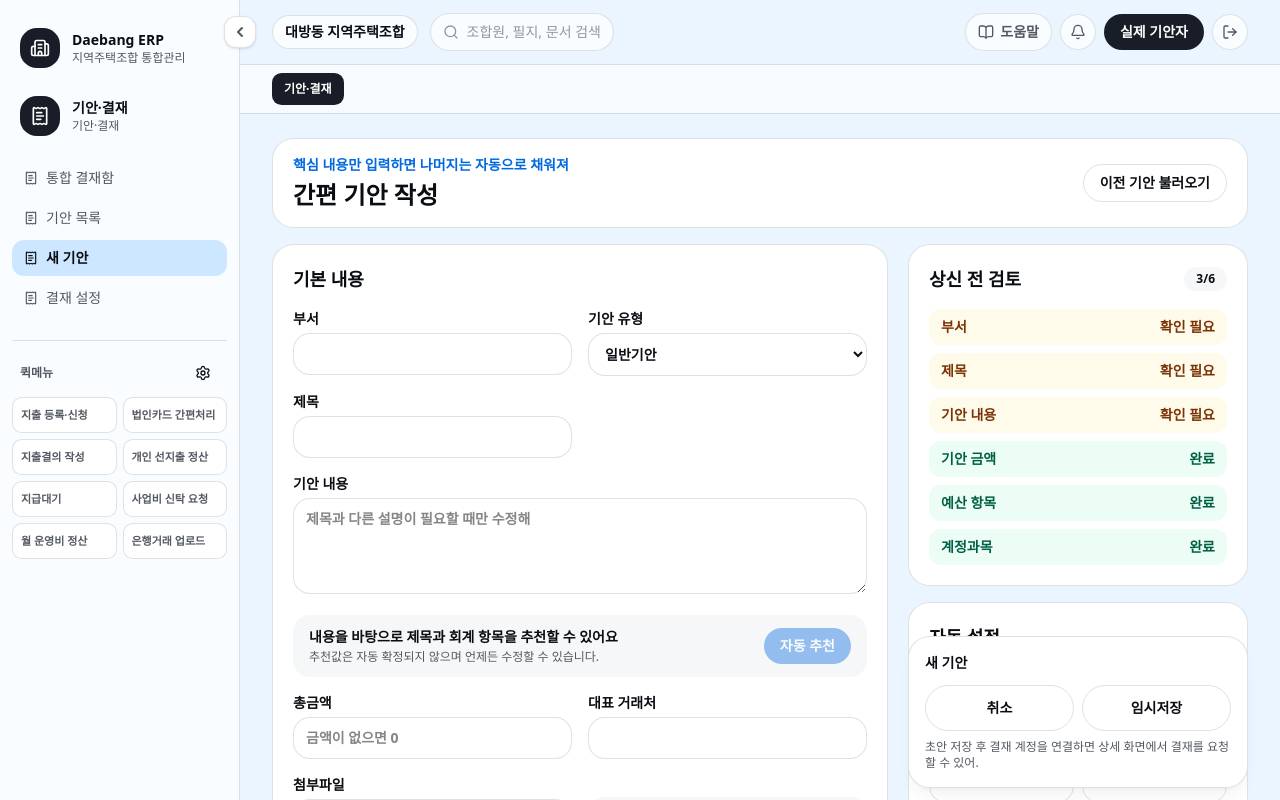
Test: ApprovalNewPage › shows only core inputs first and fills common defaults
Expected: the heading "간편 기안 작성" is shown, x1=293 y1=178 x2=438 y2=211
Expected: the field named "departmentLabel" is empty, x1=293 y1=333 x2=572 y2=375
Step 1. Type "부동산 매입 계약 검토" into the field labelled "제목" → (432, 437), box x1=293 y1=416 x2=572 y2=458
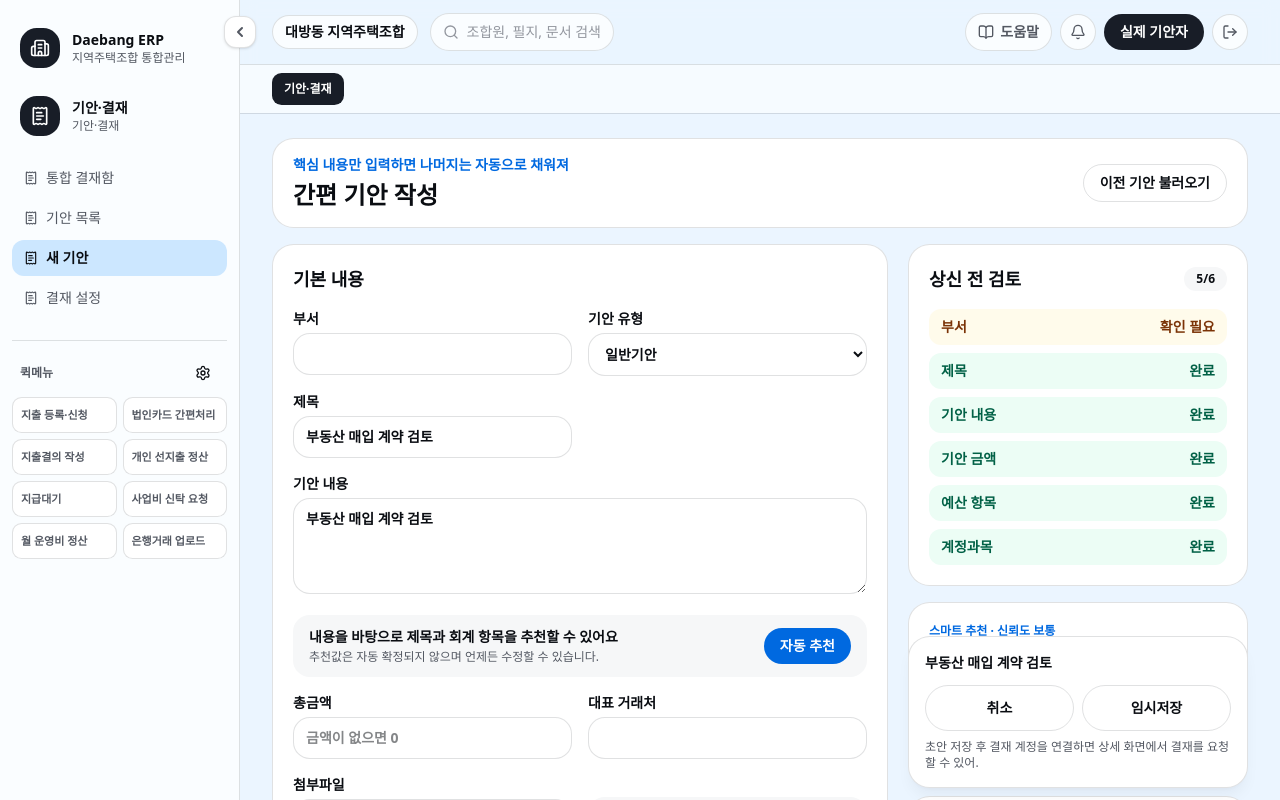
Now the text box labelled "기안 내용" holds "부동산 매입 계약 검토", box x1=293 y1=498 x2=867 y2=594
